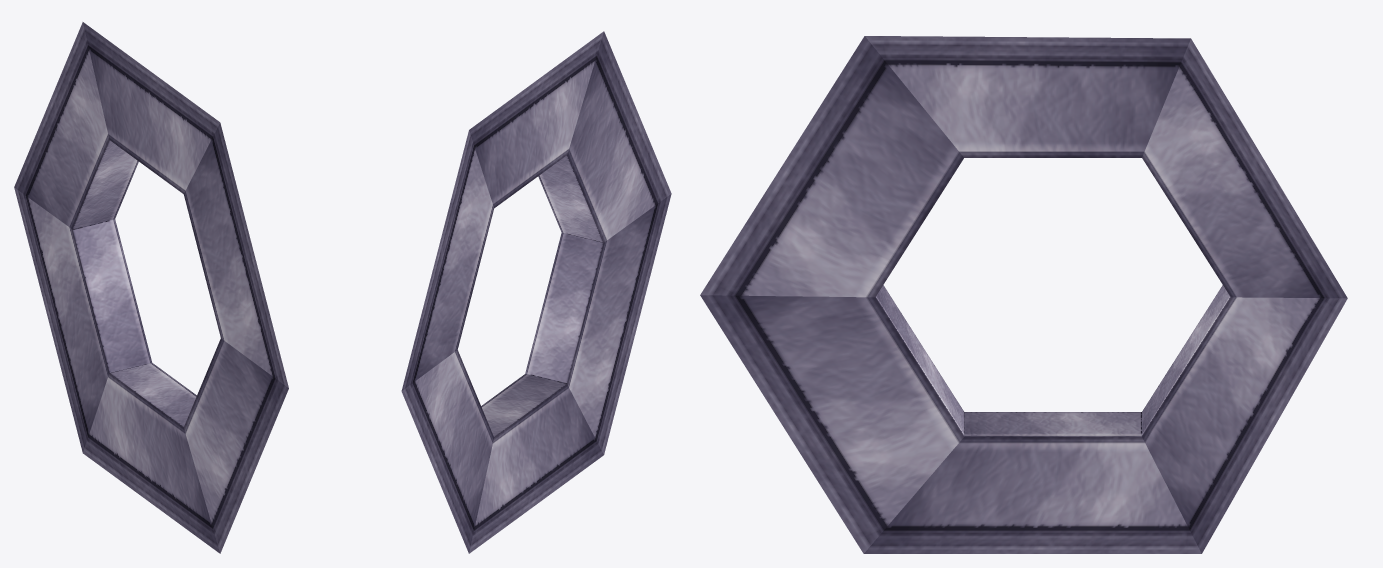
3 views of the same model, side by side, from view 1: azimuth 30°, elevation 25°; view 2: azimuth 150°, elevation 25°; view 3: azimuth 270°, elevation 25° (orthographic). The views are drawn at different scales.
Parts seen in each view (by area): view 1: Object01; view 2: Object01; view 3: Object01.
Part boxes in pixels (box(x1,y1,x2,y2)): Object01: box(14, 22, 288, 553); Object01: box(401, 31, 671, 553); Object01: box(700, 36, 1347, 553).
Bounding box in the file's own units: 338 × 3153 × 3675.
Materials: 1 (1 with a texture image).
